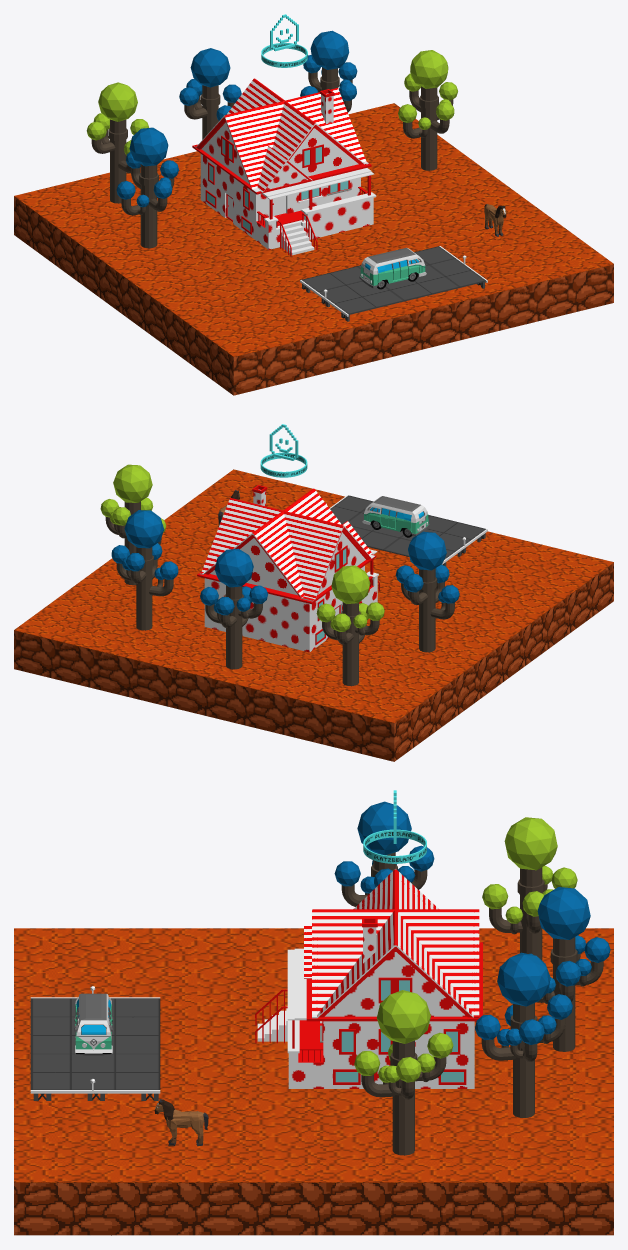
The picture shows the model from 3 angles, top to bottom: view 1: azimuth 30°, elevation 25°; view 2: azimuth 150°, elevation 25°; view 3: azimuth 270°, elevation 25°; orthographic projection. The views are drawn at different scales.
Parts seen in each view (by area): view 1: Cube.001, Cube.196, VEHICLES_VAN, TYPE_PREMIUM, ANIMAL_CABALLO; view 2: Cube.001, Cube.196, VEHICLES_VAN, TYPE_PREMIUM; view 3: Cube.001, Cube.196, VEHICLES_VAN, TYPE_PREMIUM, ANIMAL_CABALLO.
Part boxes in pixels (x1,y1,x2,y2): Cube.001: (14, 30, 613, 395); Cube.196: (192, 78, 376, 256); VEHICLES_VAN: (359, 247, 426, 289); TYPE_PREMIUM: (261, 14, 307, 67); ANIMAL_CABALLO: (484, 204, 506, 236); Cube.001: (14, 464, 613, 761); Cube.196: (197, 485, 379, 652); VEHICLES_VAN: (362, 496, 429, 537); TYPE_PREMIUM: (260, 424, 307, 477); Cube.001: (14, 801, 613, 1235); Cube.196: (255, 869, 482, 1088); VEHICLES_VAN: (74, 993, 113, 1055); TYPE_PREMIUM: (363, 790, 426, 863); ANIMAL_CABALLO: (154, 1099, 208, 1146).
Size of the model in its own units: 4000 by 2383 by 4000.
32 materials, 6 textured.
